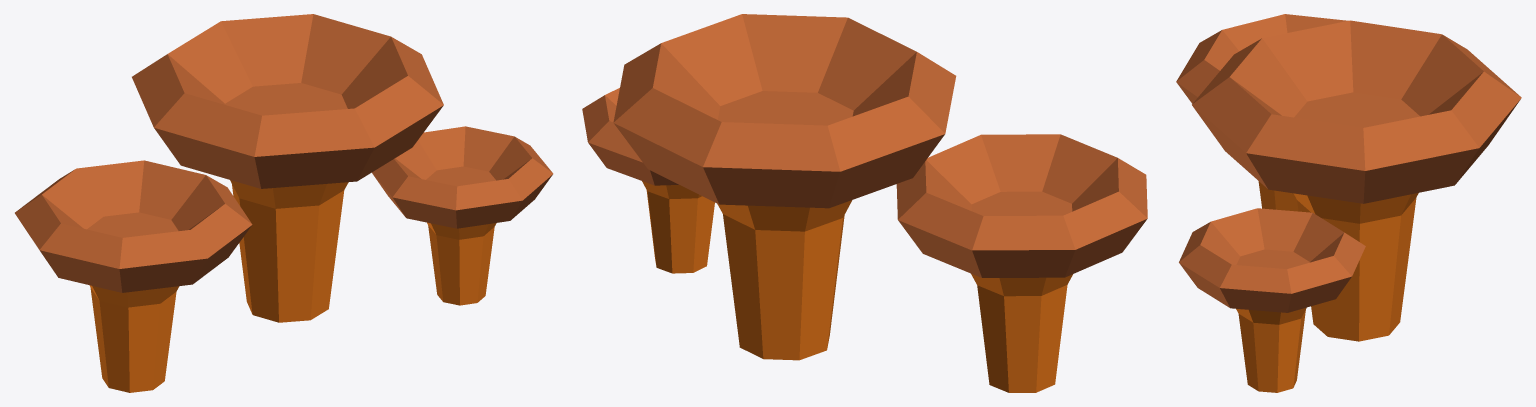
Rendered from Mushroom_02.fbx.
3 renders of one model, left to right at view 1: azimuth 30°, elevation 25°; view 2: azimuth 150°, elevation 25°; view 3: azimuth 270°, elevation 25°, orthographic. The views are drawn at different scales.
Visible parts, largest first — view 1: Mushroom_02; view 2: Mushroom_02; view 3: Mushroom_02.
Part boxes in pixels (<box>): Mushroom_02: <box>15,14,553,392</box>; Mushroom_02: <box>582,14,1147,392</box>; Mushroom_02: <box>1176,14,1521,392</box>.
Size of the model in its own units: 219 by 106 by 128.
